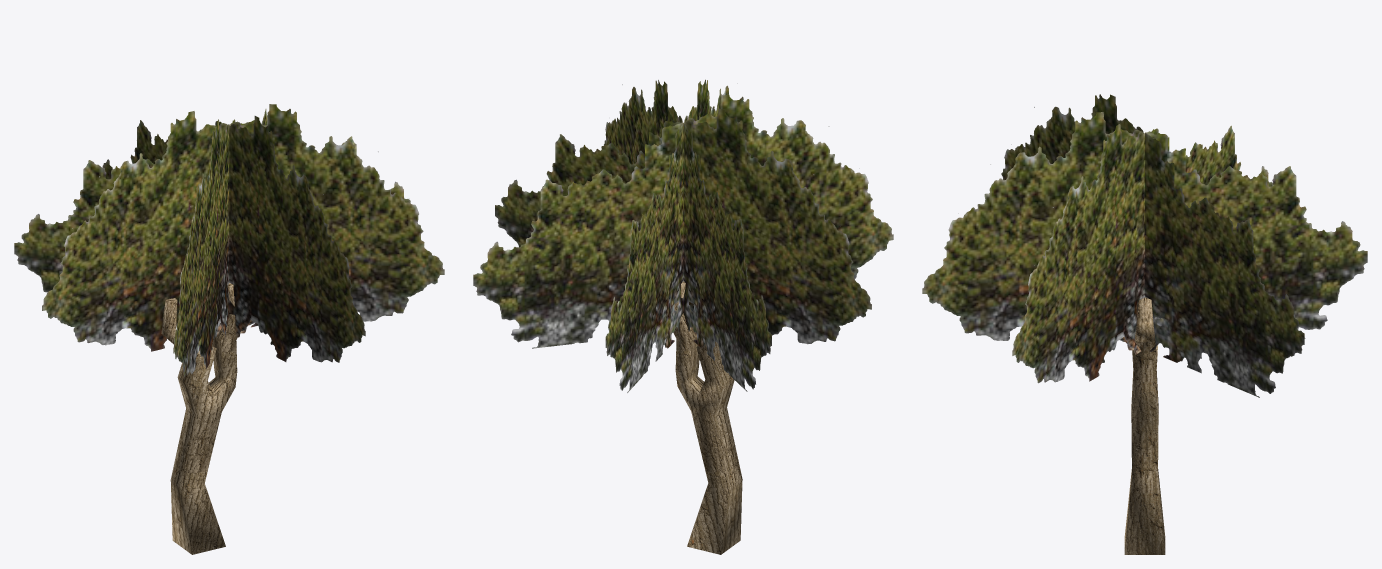
The model's file is Tree.fbx.
3 views of the same model, side by side, from view 1: azimuth 30°, elevation 25°; view 2: azimuth 150°, elevation 25°; view 3: azimuth 270°, elevation 25° (orthographic). The views are drawn at different scales.
Parts seen in each view (by area): view 1: Cube.015; view 2: Cube.015; view 3: Cube.015.
Boxes of the visible parts, bbox=[...] form: Cube.015: bbox=[14, 104, 444, 554]; Cube.015: bbox=[473, 79, 893, 554]; Cube.015: bbox=[922, 94, 1367, 554].
Bounding box in the file's own units: 411 × 455 × 406.
2 materials, 2 textured.
